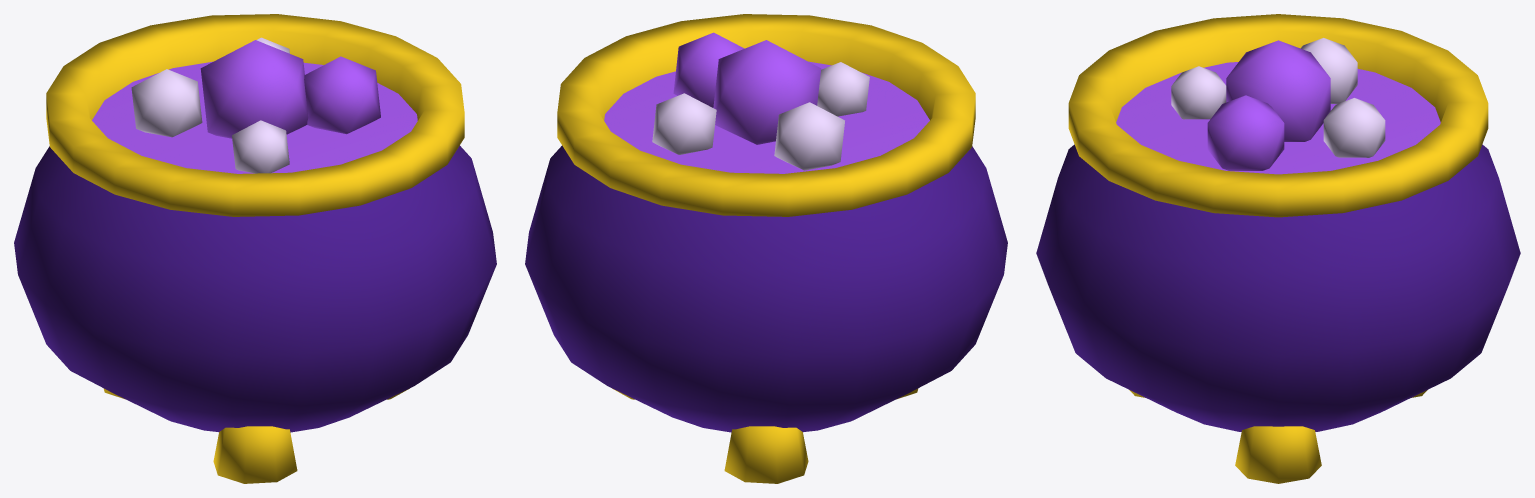
File: w4_06_cauldron.glb
3 renders of one model, left to right at view 1: azimuth 30°, elevation 25°; view 2: azimuth 150°, elevation 25°; view 3: azimuth 270°, elevation 25°, orthographic.
Visible parts, largest first — view 1: W4_06_Cauldron; view 2: W4_06_Cauldron; view 3: W4_06_Cauldron.
Part boxes in pixels (x1,y1,x2,y2): W4_06_Cauldron: (14, 14, 496, 483); W4_06_Cauldron: (525, 14, 1007, 483); W4_06_Cauldron: (1036, 14, 1520, 483).
Size of the model in its own units: 2.68 by 2.26 by 2.68.
1 material, 1 textured.
